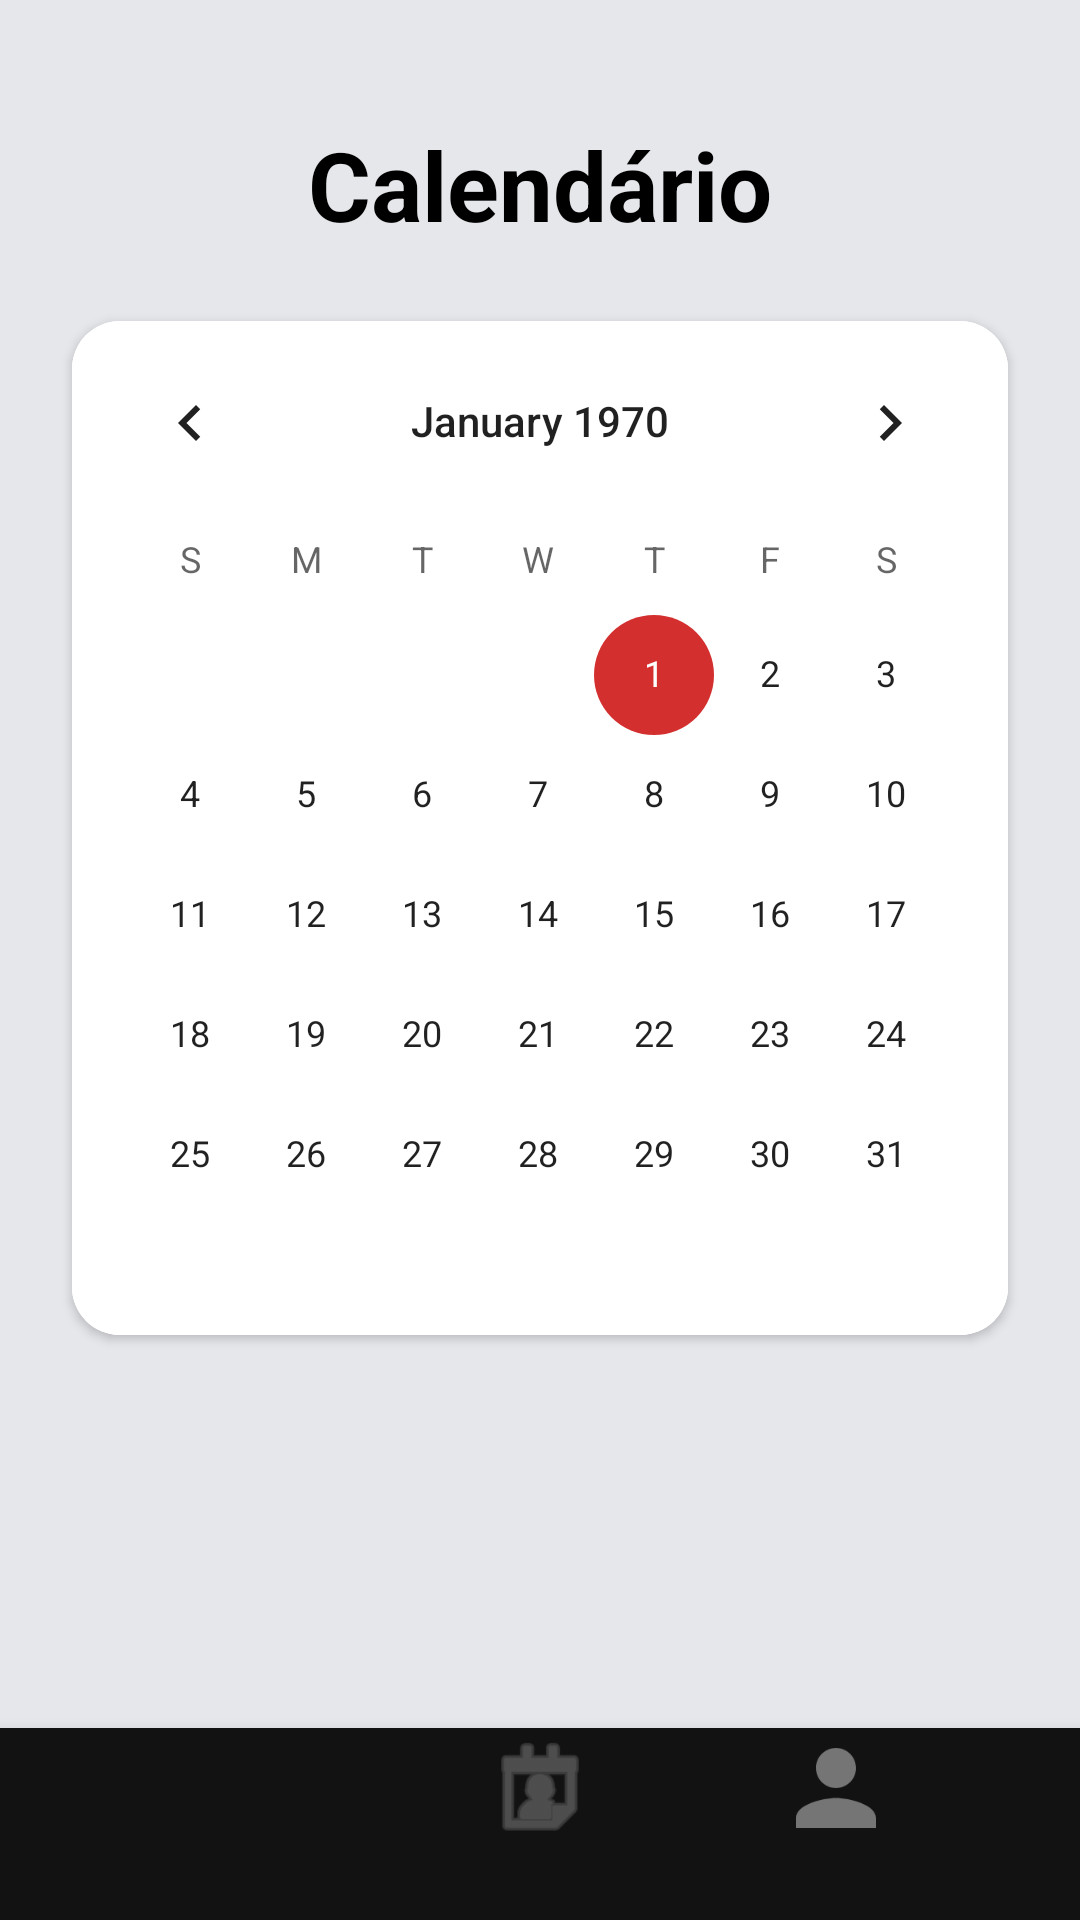

Icon bounding boxes for this 1080 x 1920 phone screenshot, format (x1, y1, x2, y2):
calendar: (501, 1743, 579, 1830)
Perfil: (796, 1748, 876, 1828)
